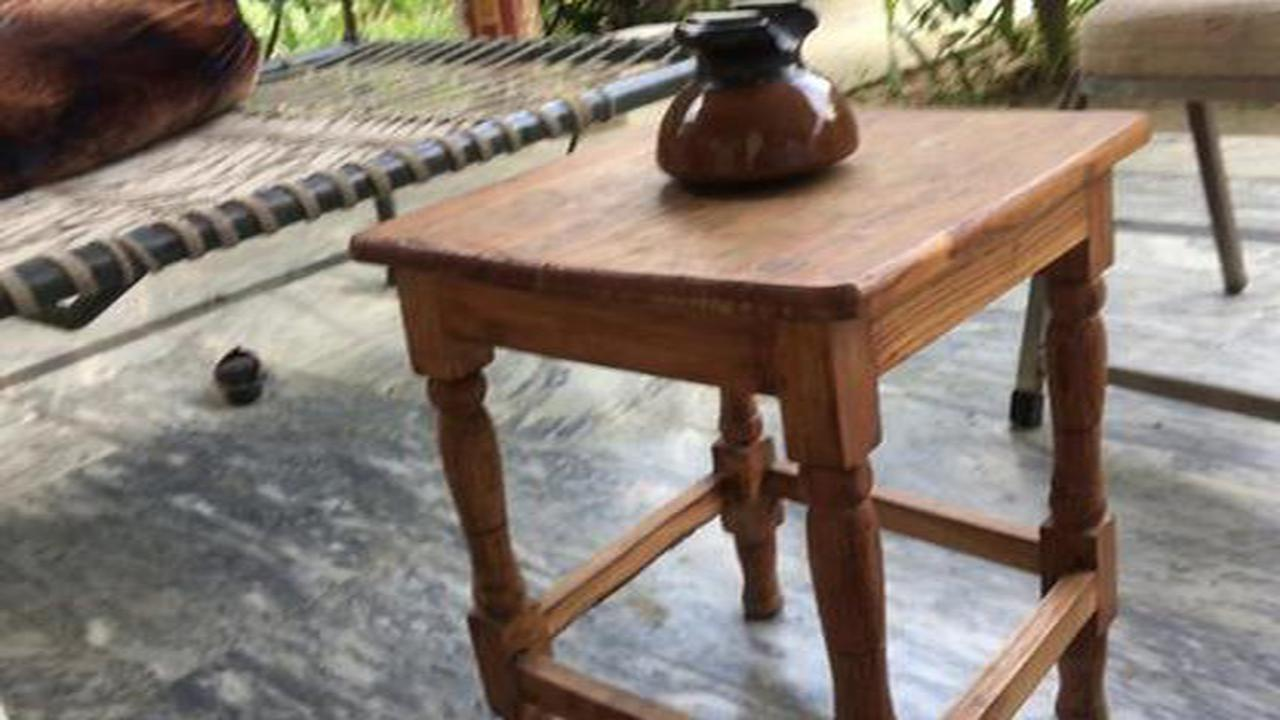insulator_pin: (616, 2, 893, 201)
